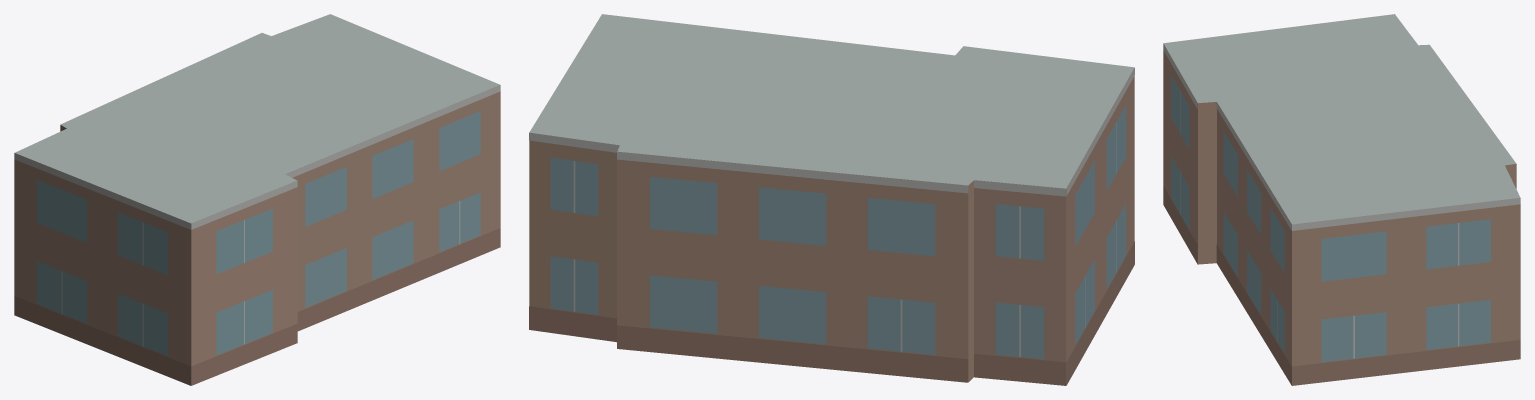
The model's file is survey-upis-32623848.glb.
3 views of the same model, side by side, from view 1: azimuth 30°, elevation 25°; view 2: azimuth 150°, elevation 25°; view 3: azimuth 270°, elevation 25° (orthographic). The views are drawn at different scales.
Parts seen in each view (by area): view 1: survey-upis-32623848.tmp; view 2: survey-upis-32623848.tmp; view 3: survey-upis-32623848.tmp.
Part boxes in pixels (x1,y1,x2,y2): survey-upis-32623848.tmp: (14,14,500,385); survey-upis-32623848.tmp: (529,14,1134,385); survey-upis-32623848.tmp: (1163,14,1520,385).
Size of the model in its own units: 17.08 by 6.1 by 12.25.
